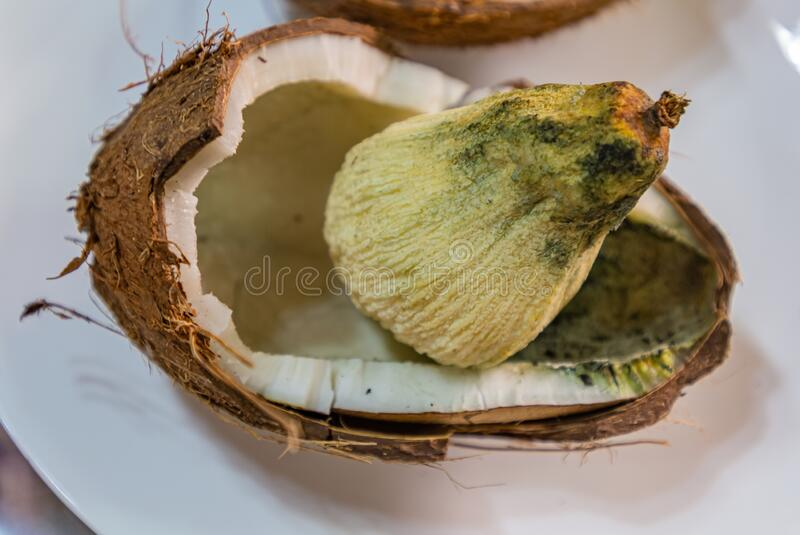damaged_coconut: (97, 37, 714, 428)
